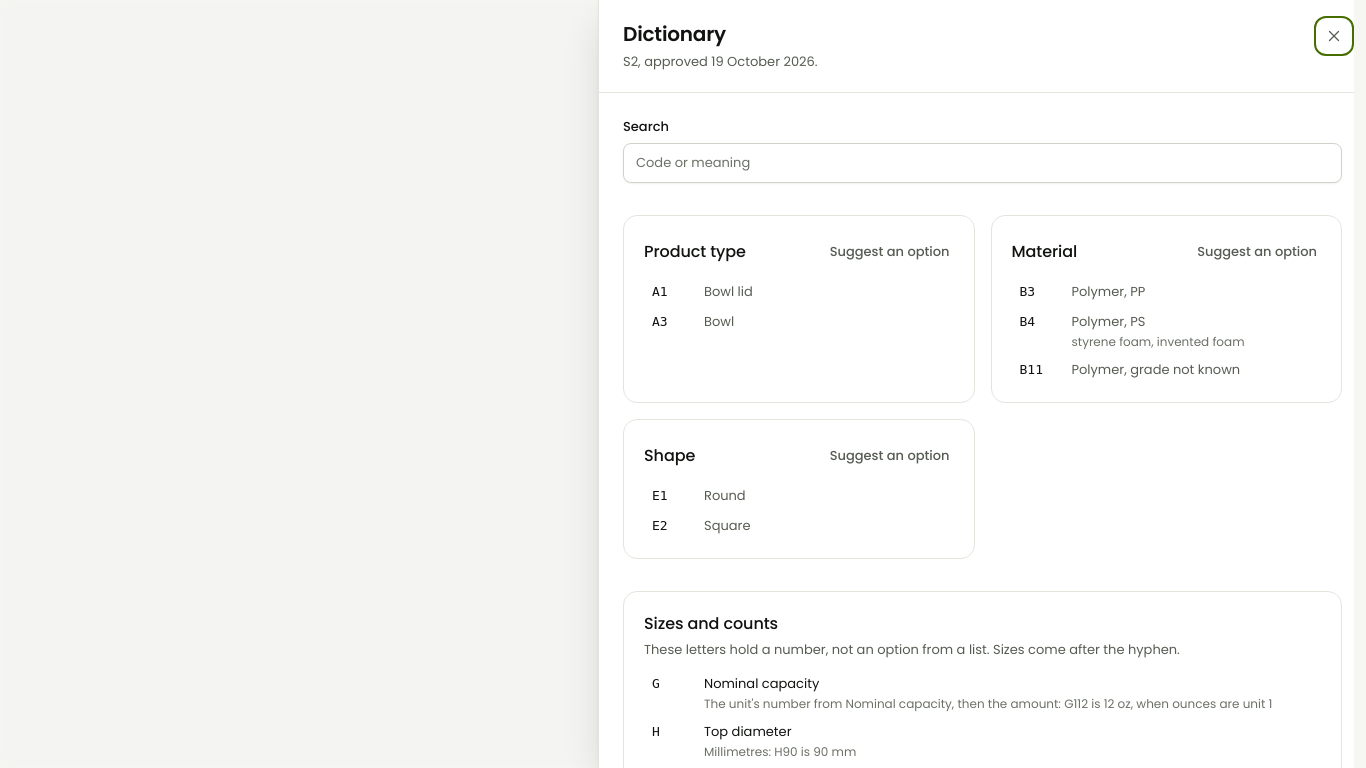
Test case: DictionarySheet, suggesting › deletes a product type in use only into another product type, in #95's words
The width and height of the screenshot is (1366, 768).
Step 1. Click the button "Bowl lid" → (728, 292), box [704, 282, 753, 302]
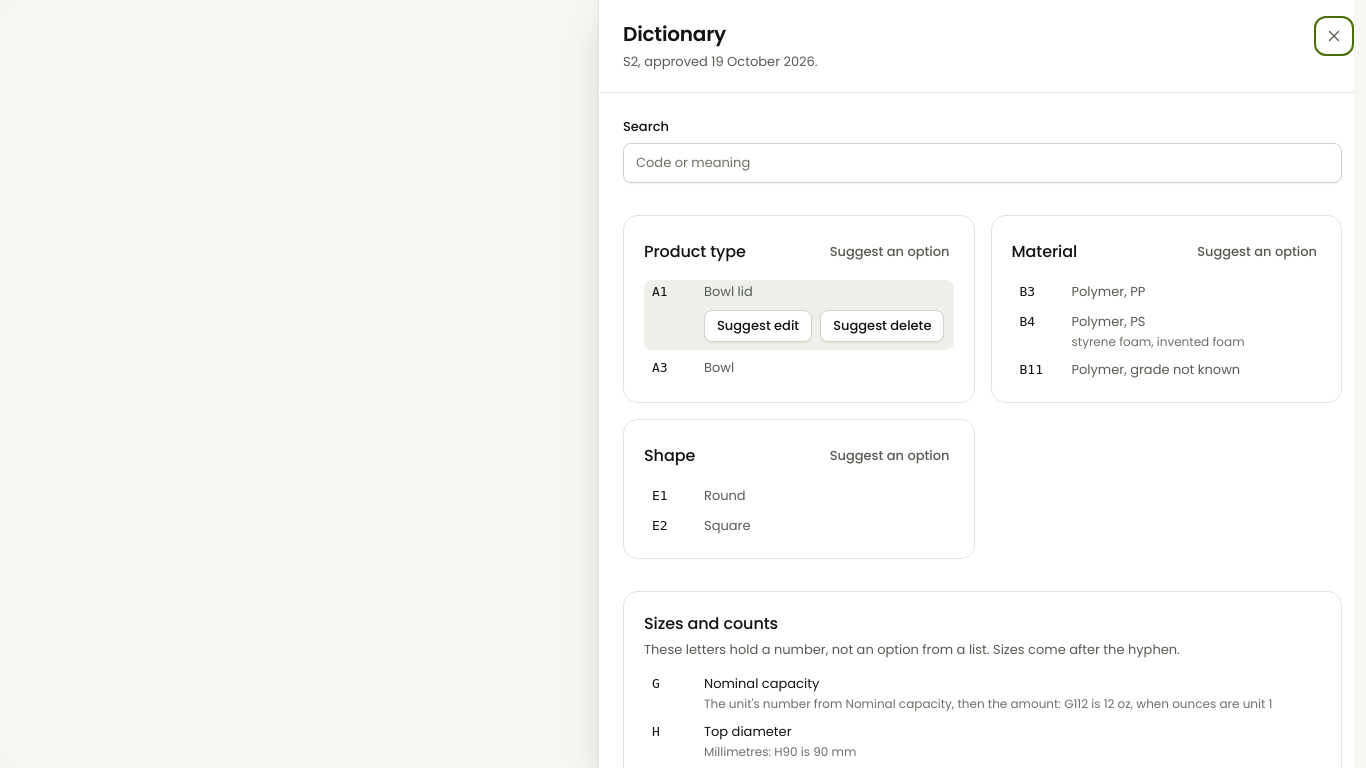
Step 2. Click the button "Suggest delete" → (882, 326), box [820, 310, 944, 342]
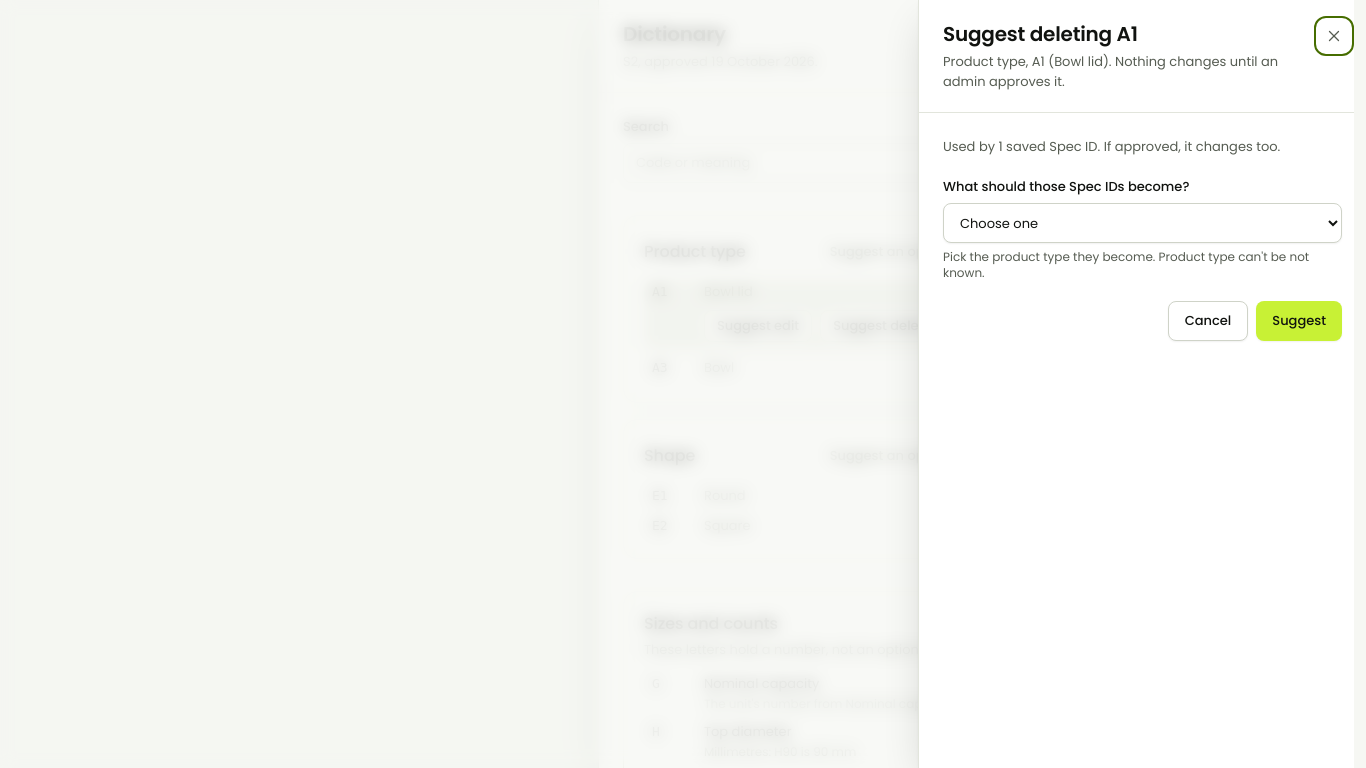
Result: the text "Pick the product type they become. Product type can't be not known." is shown at [943, 249, 1342, 281]
